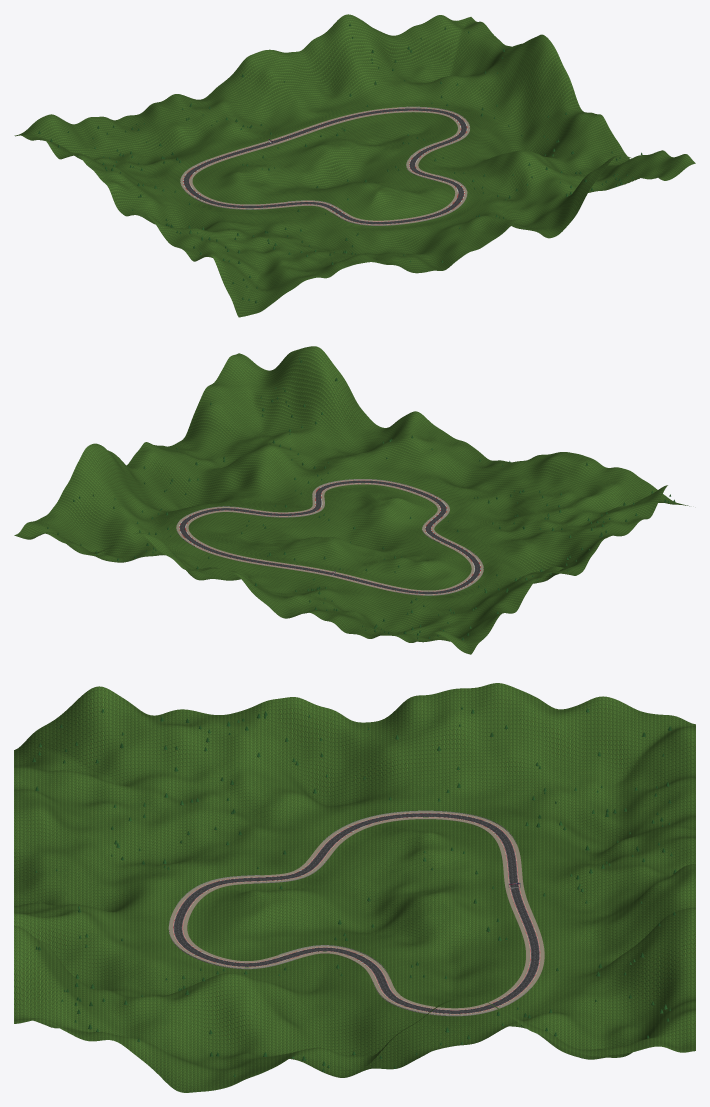
File: circuito_forza.glb
3 renders of one model, top to bottom at view 1: azimuth 30°, elevation 25°; view 2: azimuth 150°, elevation 25°; view 3: azimuth 270°, elevation 25°, orthographic. The views are drawn at different scales.
Parts seen in each view (by area): view 1: Terreno-col, Grava-col, Pista-col, Arboles, Pianos-col, Muros-col; view 2: Terreno-col, Grava-col, Pista-col, Arboles, Pianos-col, Muros-col; view 3: Terreno-col, Grava-col, Pista-col, Arboles, Pianos-col, Muros-col.
Part boxes in pixels (x1,y1,x2,y2): Terreno-col: [14, 14, 695, 317]; Grava-col: [180, 107, 470, 225]; Pista-col: [183, 108, 466, 224]; Arboles: [38, 24, 642, 303]; Pianos-col: [183, 108, 467, 224]; Muros-col: [180, 106, 469, 225]; Terreno-col: [14, 346, 689, 654]; Grava-col: [176, 479, 483, 595]; Pista-col: [179, 480, 480, 594]; Arboles: [47, 357, 675, 640]; Pianos-col: [179, 480, 480, 594]; Muros-col: [176, 479, 483, 595]; Terreno-col: [14, 683, 695, 1092]; Grava-col: [168, 811, 544, 1016]; Pista-col: [173, 813, 539, 1013]; Arboles: [32, 707, 676, 1076]; Pianos-col: [173, 813, 540, 1014]; Muros-col: [169, 810, 530, 1015].
Bounding box in the file's own units: 1296 × 242 × 1104.
Materials: 9 (9 with a texture image).
